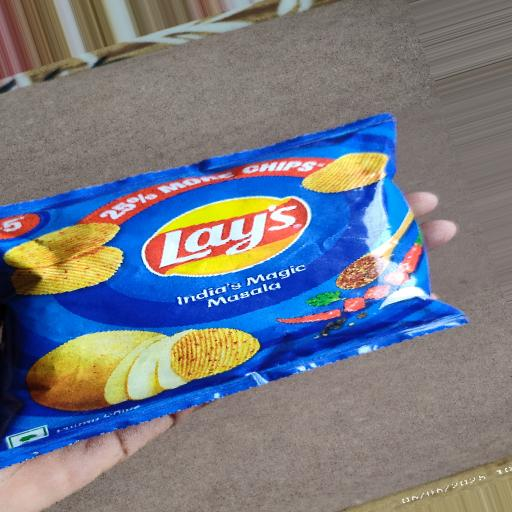Lays Blue (India Masala magic): (0, 81, 497, 488)
